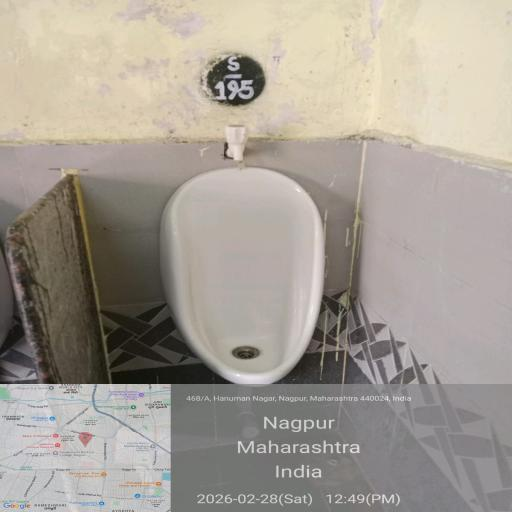clean_floor: (0, 0, 512, 162), (351, 166, 496, 376), (38, 175, 144, 362)
clean_urinal: (171, 173, 314, 366)
